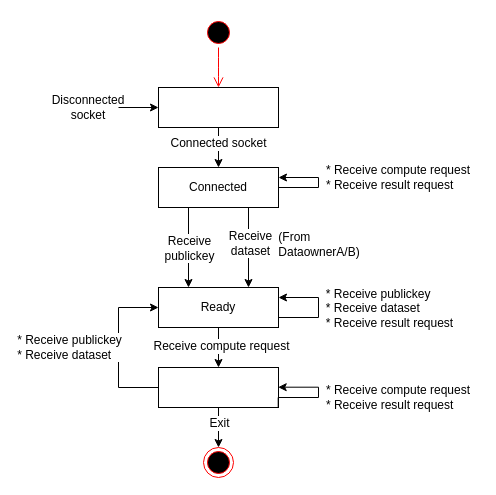
This 496x495 diagram has some shape labels left out. The box of each missing label's shape, as (x1, y1, x2, y2) in pixels:
Computed: (158, 366, 278, 408)
Init: (158, 86, 278, 128)
